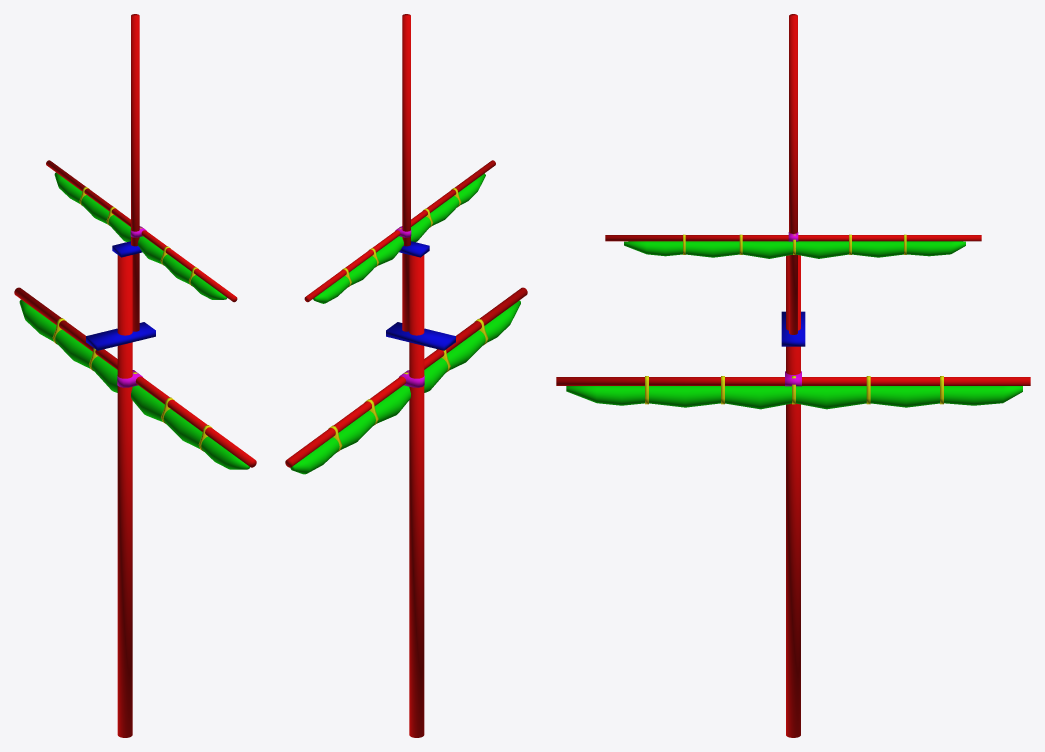
Rendered from 8mast3.fbx.
3 renders of one model, left to right at view 1: azimuth 30°, elevation 25°; view 2: azimuth 150°, elevation 25°; view 3: azimuth 270°, elevation 25°, orthographic.
Visible parts, largest first — view 1: mast3; view 2: mast3; view 3: mast3.
Part boxes in pixels (bbox=[...]): mast3: bbox=[14, 14, 256, 737]; mast3: bbox=[285, 14, 527, 737]; mast3: bbox=[556, 14, 1030, 737].
Size of the model in its own units: 154 by 1803 by 1070.
